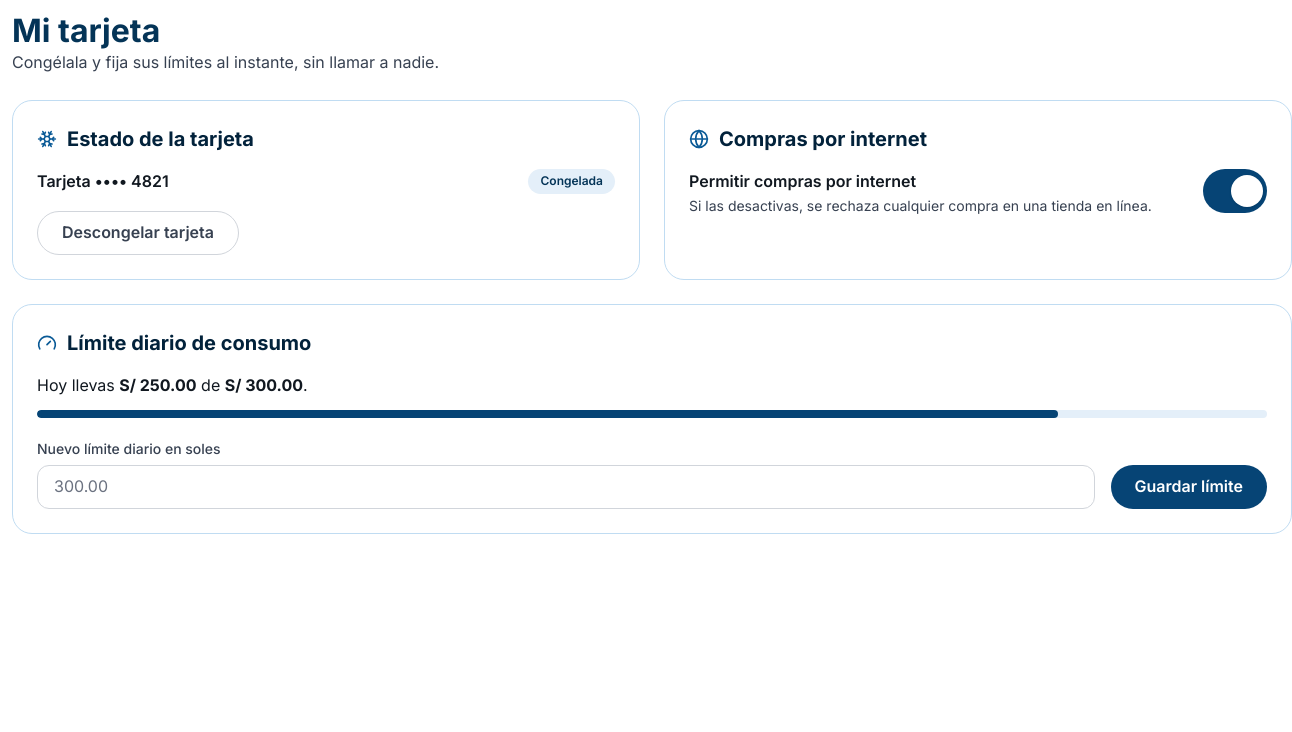
Controles de la tarjeta · HU-10 · AYNI-252 › una tarjeta congelada se puede descongelar
This screenshot has width=1292, height=732.
Expected: the heading "Estado de la tarjeta" is shown, [37,127,254,151]
Click the button "Descongelar tarjeta" at (138, 233), box [37,211,239,255]
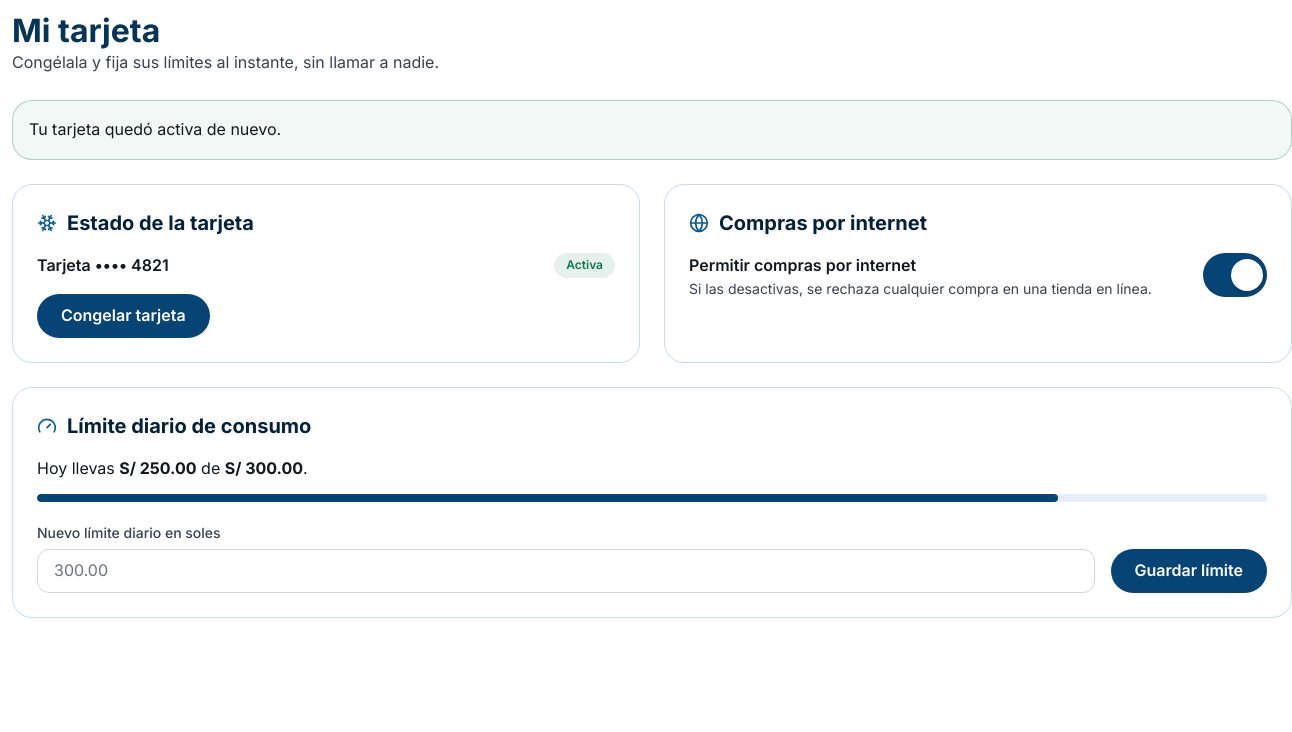
Expected: the text "Activa" is shown, [554,253,615,278]
Expected: the message reads "Tu tarjeta quedó activa de nuevo.", [29,119,281,139]
